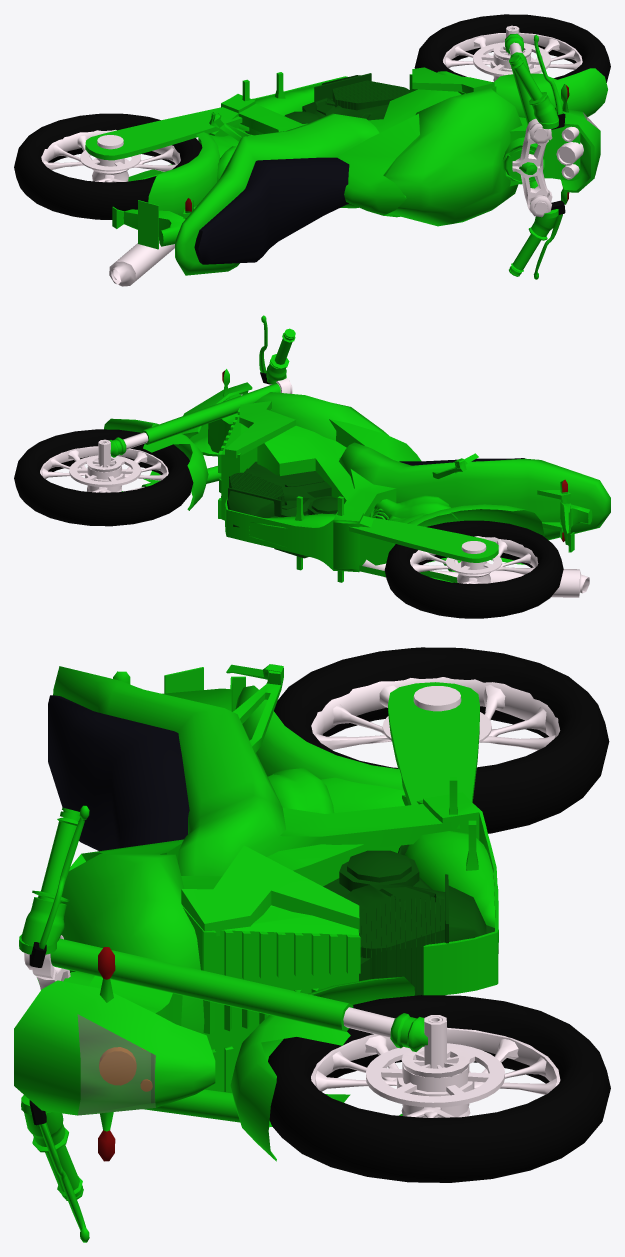
The model's file is bike2.obj.
3 renders of one model, top to bottom at view 1: azimuth 30°, elevation 25°; view 2: azimuth 150°, elevation 25°; view 3: azimuth 270°, elevation 25°, orthographic. The views are drawn at different scales.
Visible parts, largest first — view 1: B_Wheel_glass, B_Wheel_metal, B_Wheel_tyers.003, B_Wheel_steel.003, B_Wheel_sheet.003, B_Wheel_metal.003; view 2: B_Wheel_glass, B_Wheel_metal, B_Wheel_tyers.003, B_Wheel_steel.003, B_Wheel_metal.003; view 3: B_Wheel_glass, B_Wheel_tyers.003, B_Wheel_metal, B_Wheel_steel.003, B_Wheel_sheet.003, B_Wheel_metal.003, B_Wheel_glass.003, B_Wheel_light.003, B_Wheel_Red_Light.003.
Part boxes in pixels (x1,y1,x2,y2): B_Wheel_glass: (85, 33, 607, 275); B_Wheel_metal: (112, 34, 586, 279); B_Wheel_tyers.003: (14, 14, 610, 219); B_Wheel_steel.003: (41, 25, 583, 286); B_Wheel_sheet.003: (194, 157, 349, 264); B_Wheel_metal.003: (245, 73, 409, 134); B_Wheel_glass: (104, 382, 610, 582); B_Wheel_metal: (208, 315, 592, 582); B_Wheel_tyers.003: (14, 372, 563, 618); B_Wheel_steel.003: (40, 378, 589, 597); B_Wheel_metal.003: (227, 461, 386, 558); B_Wheel_glass: (14, 666, 479, 1161); B_Wheel_tyers.003: (29, 647, 610, 1182); B_Wheel_metal: (19, 664, 498, 1242); B_Wheel_steel.003: (24, 677, 560, 1117); B_Wheel_sheet.003: (48, 695, 189, 851); B_Wheel_metal.003: (323, 844, 498, 995); B_Wheel_glass.003: (77, 1014, 155, 1115); B_Wheel_light.003: (99, 1047, 152, 1091); B_Wheel_Red_Light.003: (98, 947, 115, 1161).
Bounding box in the file's own units: 2.77 × 1.14 × 1.41.
